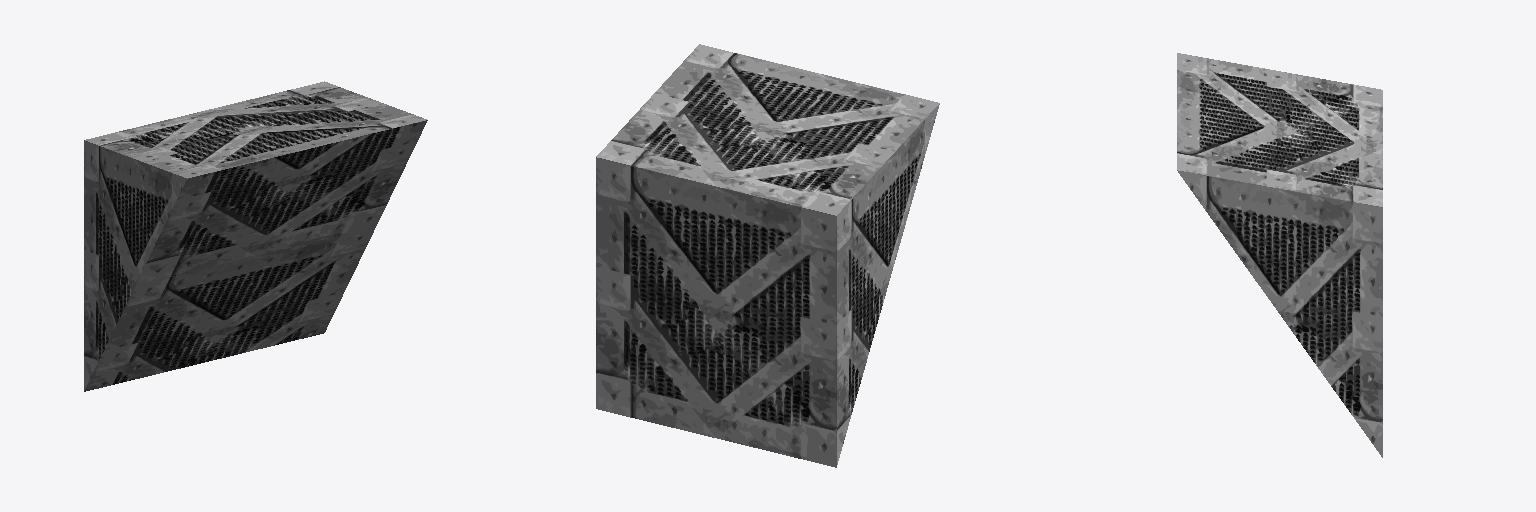
3 views of the same model, side by side, from view 1: azimuth 30°, elevation 25°; view 2: azimuth 150°, elevation 25°; view 3: azimuth 270°, elevation 25° (orthographic).
Visible parts, largest first — view 1: Jump; view 2: Jump; view 3: Jump.
Part boxes in pixels (left/top/right/bottom): Jump: left=84, top=81, right=427, bottom=391; Jump: left=596, top=44, right=939, bottom=467; Jump: left=1177, top=53, right=1382, bottom=457.
Size of the model in its own units: 1 by 1.15 by 0.7443.
Materials: 1 (1 with a texture image).